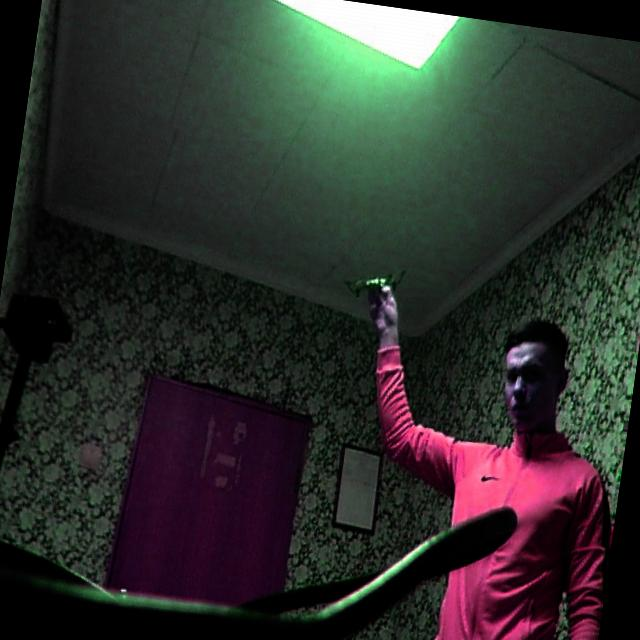drone: (333, 238, 417, 316)
